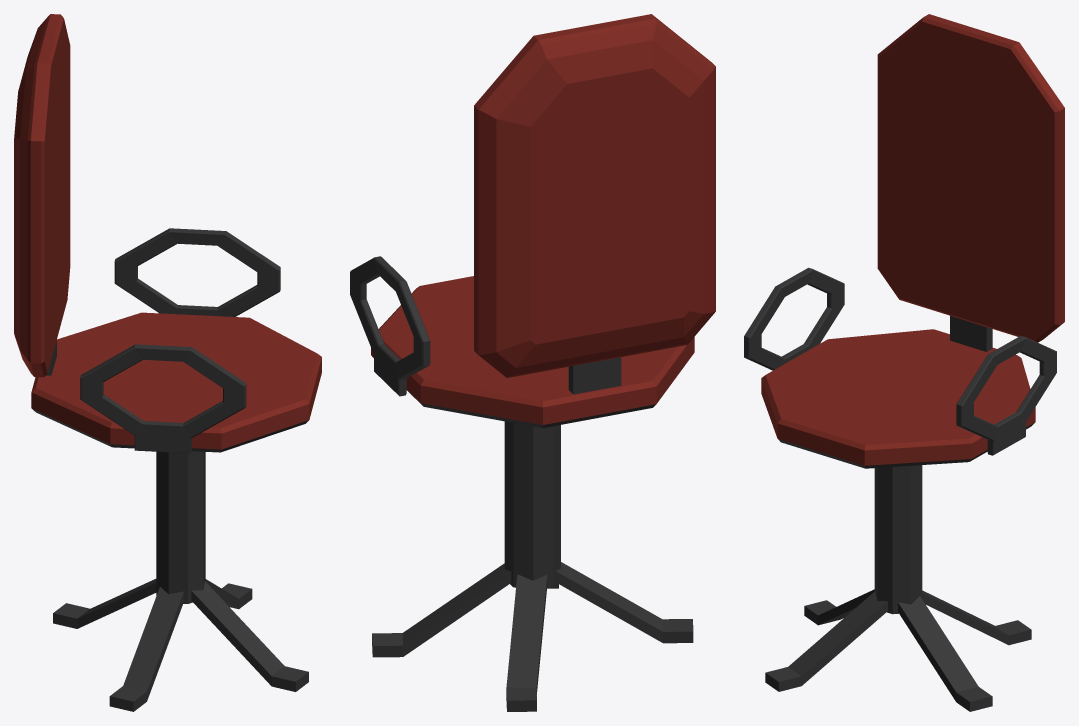
Rendered from Chair.fbx.
3 views of the same model, side by side, from view 1: azimuth 30°, elevation 25°; view 2: azimuth 150°, elevation 25°; view 3: azimuth 270°, elevation 25° (orthographic). The views are drawn at different scales.
Parts seen in each view (by area): view 1: Cylinder.001; view 2: Cylinder.001; view 3: Cylinder.001.
Boxes of the visible parts, x1,y1,x2,y2 form: Cylinder.001: [14, 14, 321, 711]; Cylinder.001: [350, 14, 715, 711]; Cylinder.001: [744, 14, 1064, 711].
Bounding box in the file's own units: 95.35 × 191 × 94.6.
